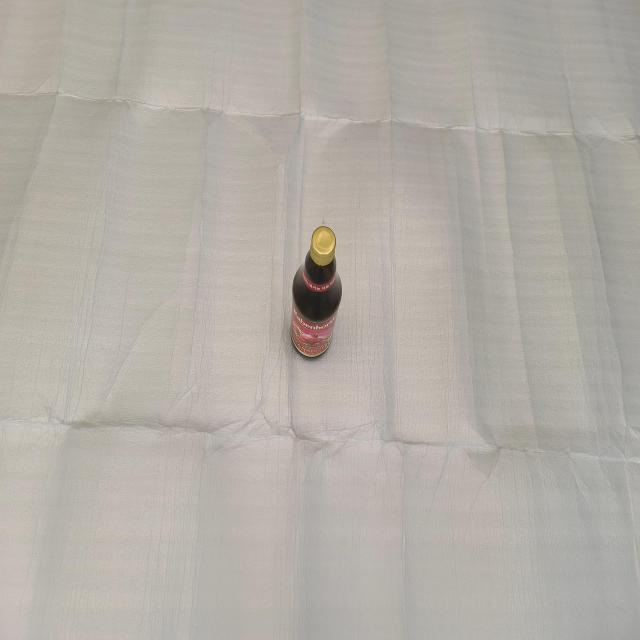glass: (291, 226, 342, 357)
